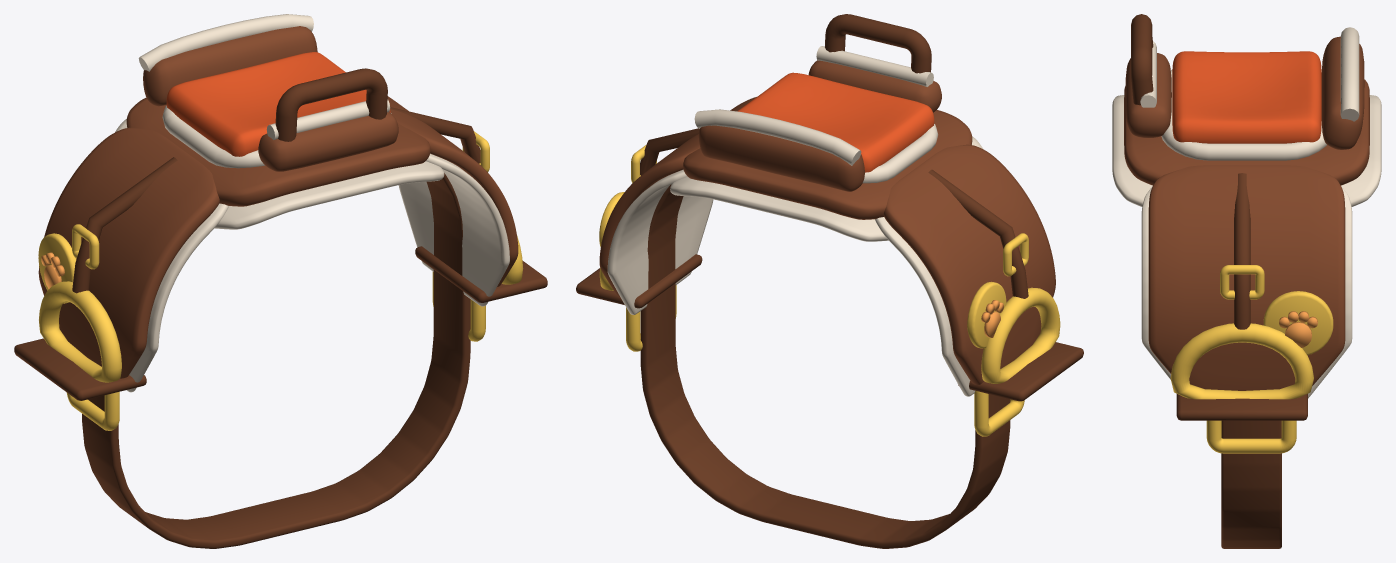
Rendered from Saddle.glb.
3 renders of one model, left to right at view 1: azimuth 30°, elevation 25°; view 2: azimuth 150°, elevation 25°; view 3: azimuth 270°, elevation 25°, orthographic. The views are drawn at different scales.
Visible parts, largest first — view 1: Saddle__leather, Saddle__dark, Saddle__cream, Saddle__cushion, Saddle__gold; view 2: Saddle__leather, Saddle__dark, Saddle__cream, Saddle__cushion, Saddle__gold; view 3: Saddle__leather, Saddle__dark, Saddle__cushion, Saddle__cream, Saddle__gold, Saddle__paw.
Boxes of the visible parts, x1=… form: Saddle__leather: x1=38, y1=26, x2=518, y2=378; Saddle__dark: x1=14, y1=68, x2=547, y2=548; Saddle__cream: x1=115, y1=14, x2=509, y2=392; Saddle__cushion: x1=166, y1=52, x2=390, y2=156; Saddle__gold: x1=38, y1=131, x2=523, y2=430; Saddle__leather: x1=599, y1=60, x2=1055, y2=385; Saddle__dark: x1=576, y1=14, x2=1083, y2=548; Saddle__cream: x1=607, y1=46, x2=982, y2=396; Saddle__cushion: x1=737, y1=72, x2=934, y2=172; Saddle__gold: x1=599, y1=145, x2=1060, y2=436; Saddle__leather: x1=1124, y1=36, x2=1369, y2=390; Saddle__dark: x1=1131, y1=14, x2=1307, y2=548; Saddle__cushion: x1=1172, y1=51, x2=1321, y2=143; Saddle__cream: x1=1112, y1=27, x2=1381, y2=398; Saddle__gold: x1=1170, y1=265, x2=1333, y2=453; Saddle__paw: x1=1279, y1=311, x2=1317, y2=347.
Bounding box in the file's own units: 2.29 × 2.26 × 1.15.
